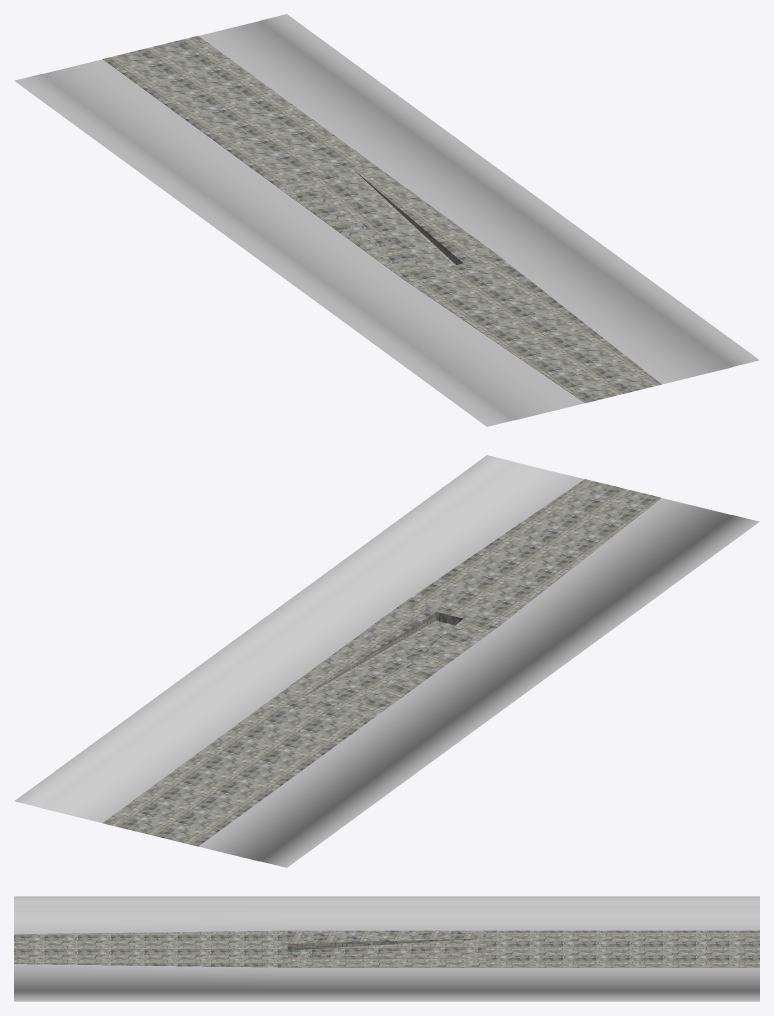
File: square.FBX
3 views of the same model, one above another, from view 1: azimuth 30°, elevation 25°; view 2: azimuth 150°, elevation 25°; view 3: azimuth 270°, elevation 25° (orthographic). The views are drawn at different scales.
Visible parts, largest first — view 1: 도로, 광장; view 2: 도로, 광장; view 3: 도로, 광장.
Part boxes in pixels (x1,y1,x2,y2): 도로: (14, 14, 759, 426); 광장: (103, 35, 661, 403); 도로: (14, 455, 759, 867); 광장: (103, 479, 661, 846); 도로: (14, 896, 759, 1001); 광장: (14, 930, 759, 967).
Bounding box in the file's own units: 99.95 × 3.1 × 300.
